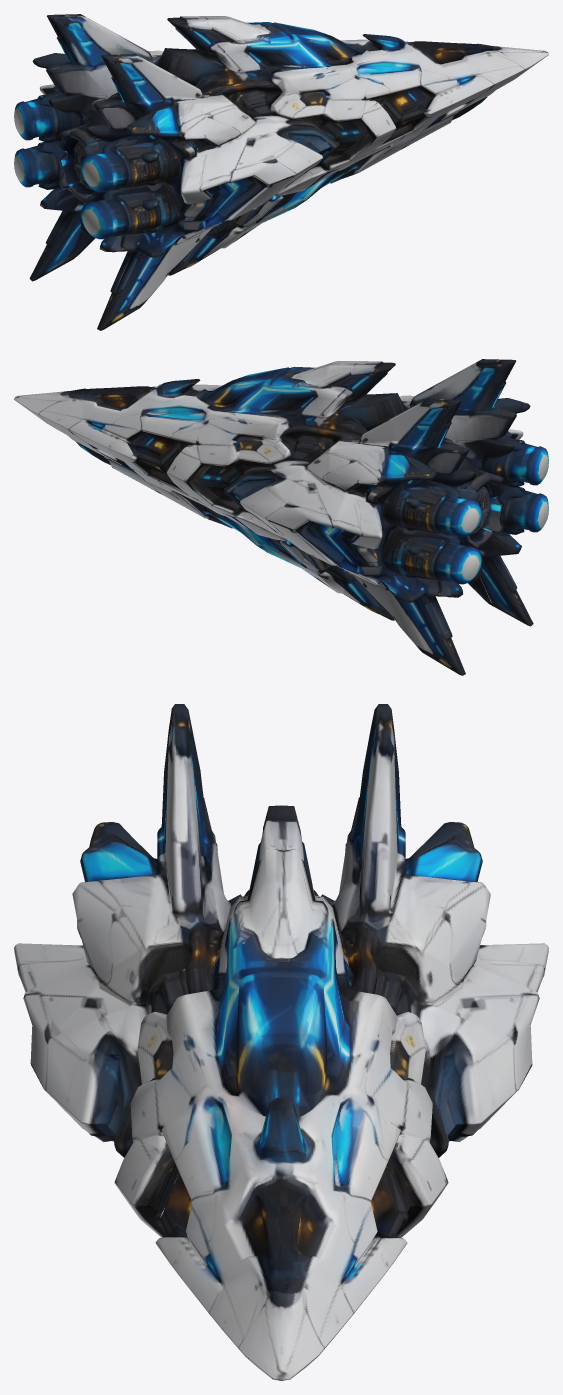
File: tripo-sample-2.glb
3 renders of one model, top to bottom at view 1: azimuth 30°, elevation 25°; view 2: azimuth 150°, elevation 25°; view 3: azimuth 270°, elevation 25°, orthographic. The views are drawn at different scales.
Visible parts, largest first — view 1: tripo_832a7c3d_1919_4407_bd27_bf685ed55cc0; view 2: tripo_832a7c3d_1919_4407_bd27_bf685ed55cc0; view 3: tripo_832a7c3d_1919_4407_bd27_bf685ed55cc0.
Boxes of the visible parts, x1=… form: tripo_832a7c3d_1919_4407_bd27_bf685ed55cc0: x1=14, y1=14, x2=548, y2=330; tripo_832a7c3d_1919_4407_bd27_bf685ed55cc0: x1=14, y1=359, x2=548, y2=675; tripo_832a7c3d_1919_4407_bd27_bf685ed55cc0: x1=14, y1=704, x2=548, y2=1380.
Bounding box in the file's own units: 0.9995 × 0.5151 × 0.5015.
Materials: 1 (1 with a texture image).
